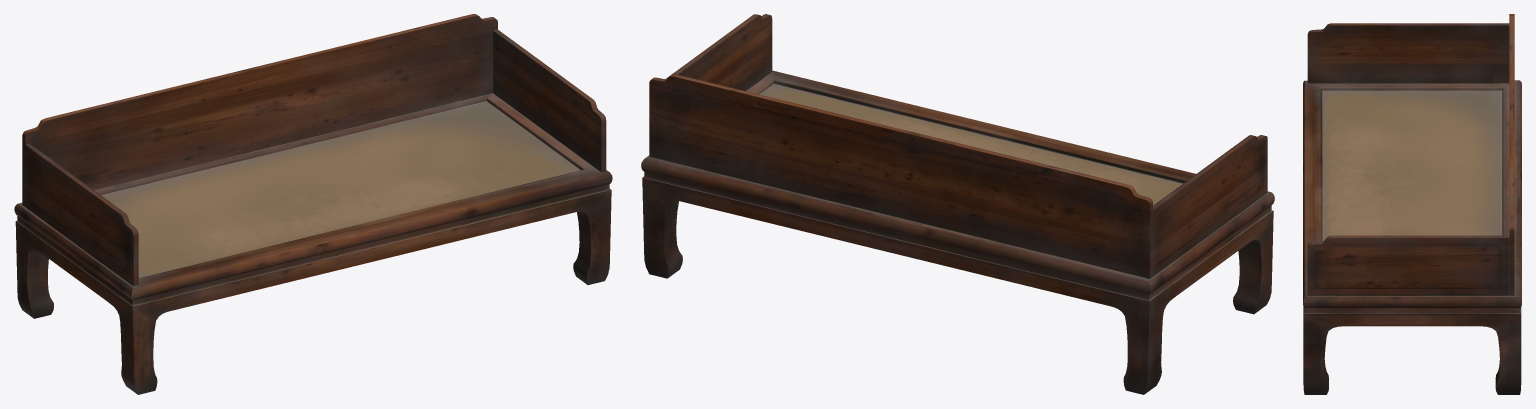
Rendered from chinese_sofa.glb.
3 renders of one model, left to right at view 1: azimuth 30°, elevation 25°; view 2: azimuth 150°, elevation 25°; view 3: azimuth 270°, elevation 25°, orthographic. The views are drawn at different scales.
Parts seen in each view (by area): view 1: chinese_sofa; view 2: chinese_sofa; view 3: chinese_sofa.
Part boxes in pixels (x1=…): chinese_sofa: x1=14, y1=14, x2=612, y2=394; chinese_sofa: x1=641, y1=14, x2=1274, y2=394; chinese_sofa: x1=1303, y1=14, x2=1521, y2=394.
Size of the model in its own units: 2.29 by 0.8599 by 0.9687.
1 material, 1 textured.
